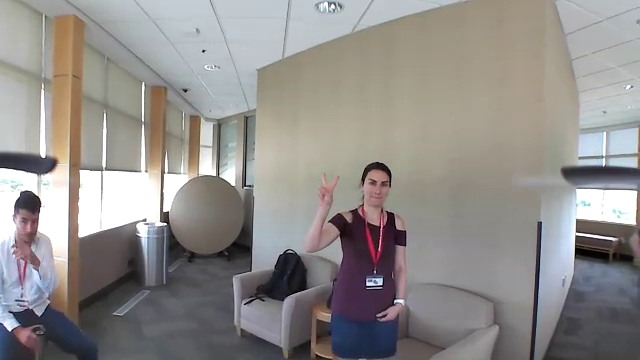peace: (313, 171, 340, 206)
